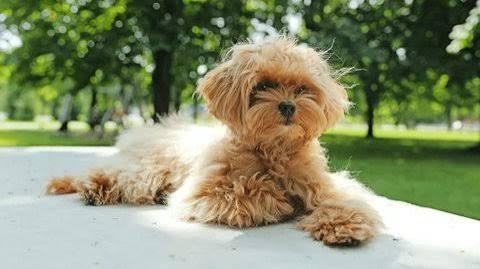adult_dog: (47, 33, 386, 244)
